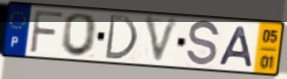A: (217, 25, 255, 70)
D: (103, 13, 140, 62)
F: (28, 8, 66, 56)
O: (59, 12, 100, 58)
S: (184, 19, 221, 69)
V: (143, 15, 182, 67)
